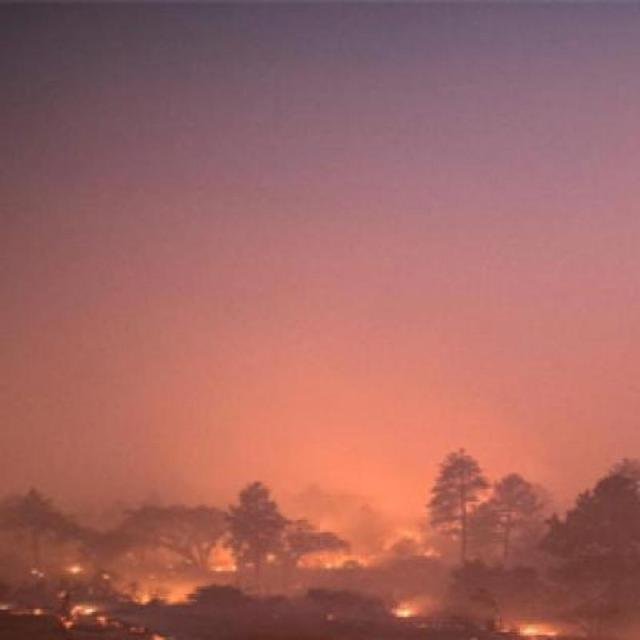Fire: (41, 525, 594, 640)
